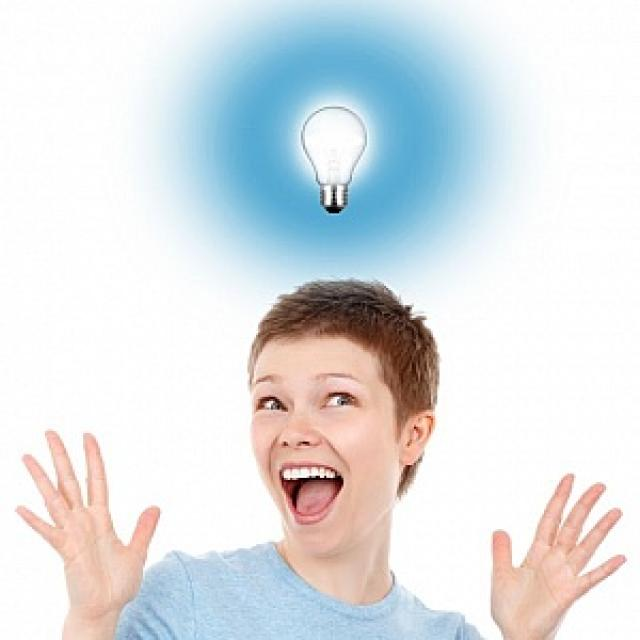Eyes: (255, 383, 371, 421)
